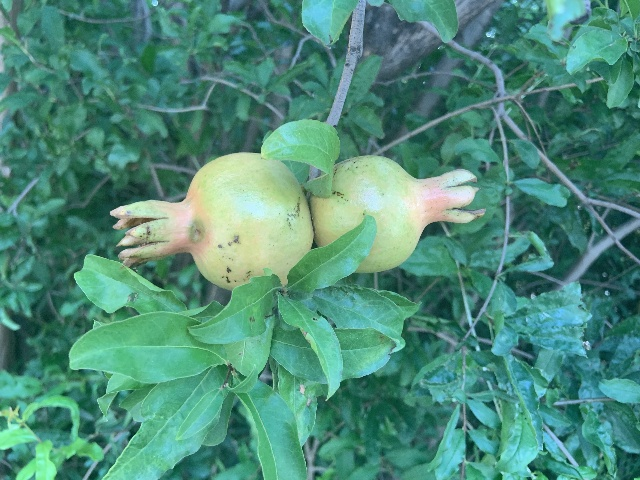mid-growth: (110, 152, 313, 290), (310, 154, 486, 273)
